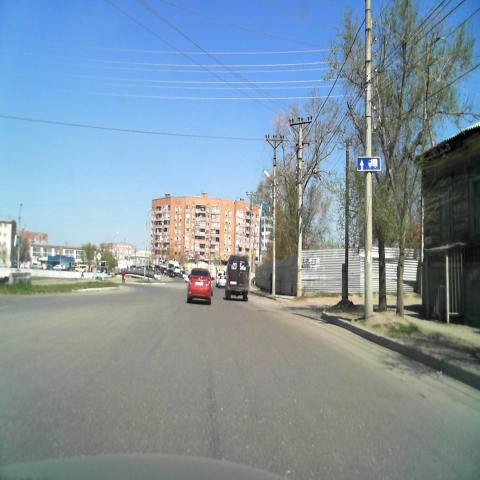6_15_1: (357, 156, 381, 170)
